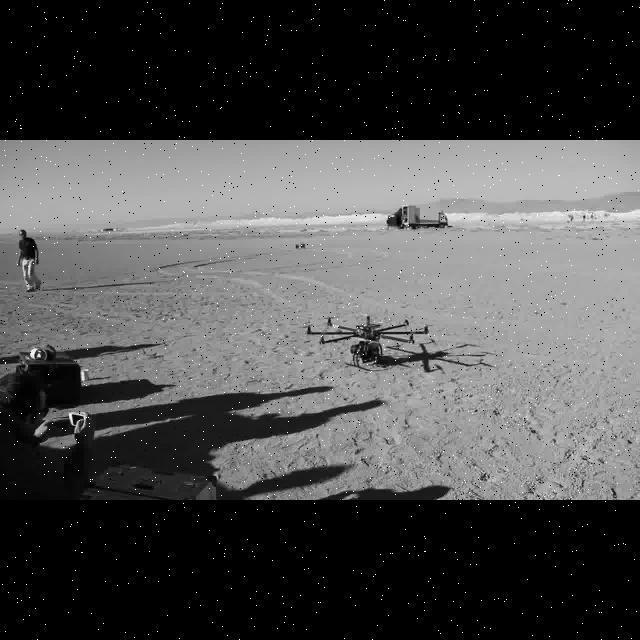Drons: (302, 308, 428, 374)
